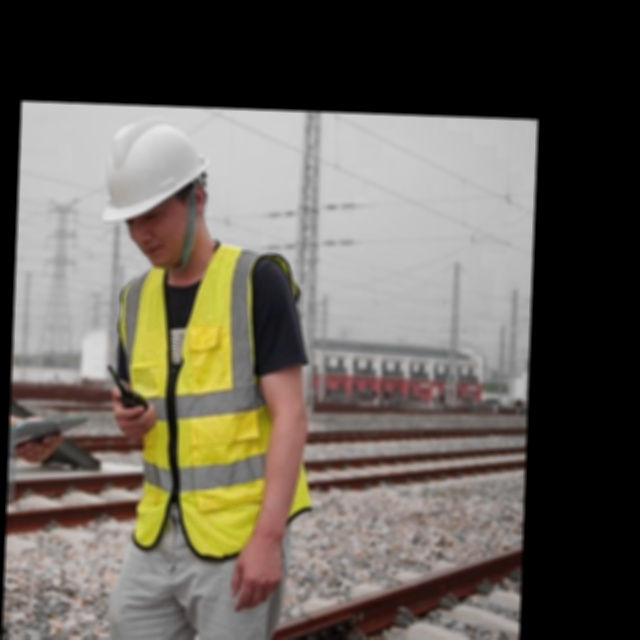Con_Casco: (100, 114, 214, 267)
Con_Chaleco: (115, 250, 290, 553)
